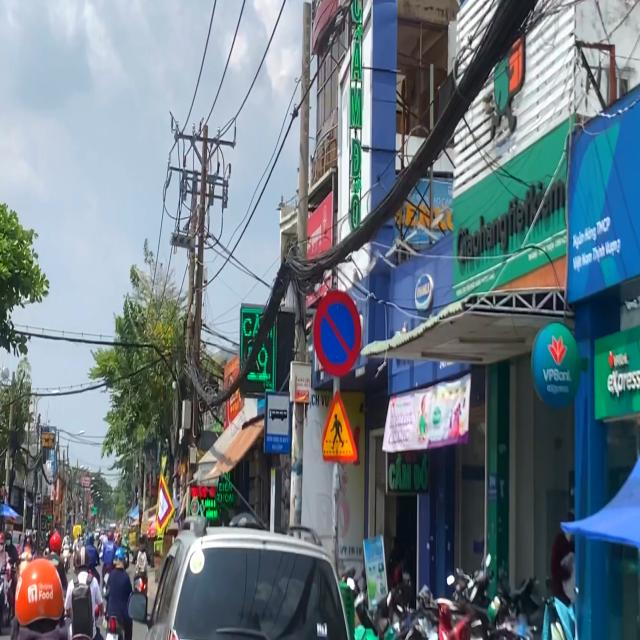Ben xe buyt: (263, 388, 293, 458)
Cam do: (312, 288, 362, 377)
Nguoi di bo cat ngang: (320, 386, 359, 468)
